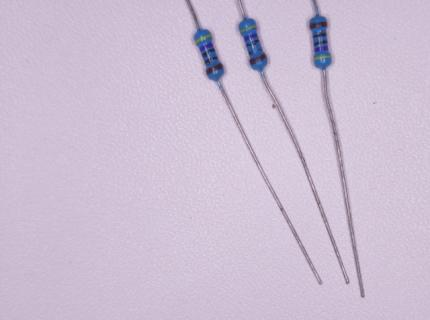Black band: (204, 56, 219, 65), (202, 48, 215, 57), (248, 48, 262, 55), (246, 40, 260, 47), (312, 33, 327, 38), (314, 40, 328, 45)
Brown band: (206, 63, 224, 75), (250, 54, 267, 66), (309, 22, 327, 29)
Violet band: (198, 42, 214, 53), (244, 33, 259, 41), (314, 46, 329, 53)
Yellow band: (195, 34, 212, 45), (240, 25, 258, 33), (313, 55, 331, 61)
